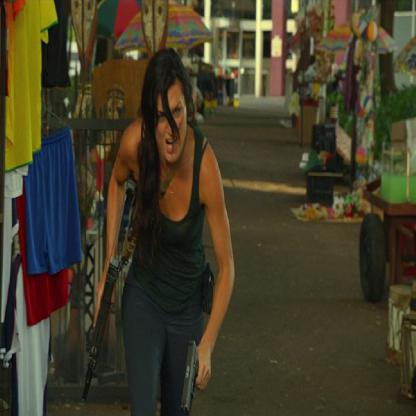Gun: (80, 174, 136, 414), (179, 332, 198, 415)
